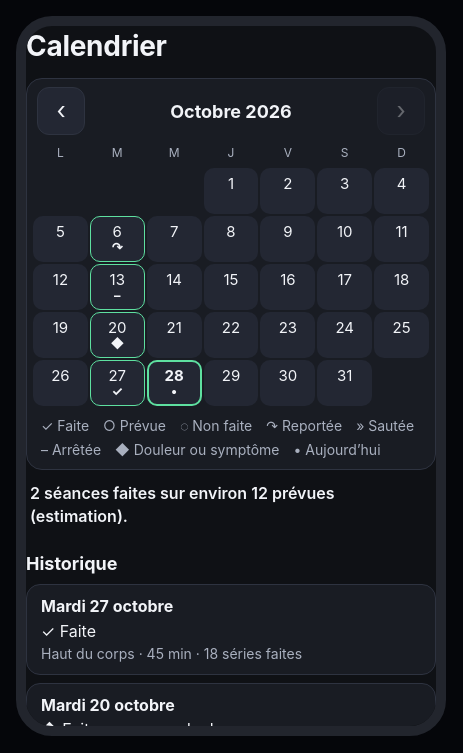
Scenario: calendrier › mois précédent / suivant ; « suivant » désactivé sur le mois en cours
Expected: the button named "Mois suivant" is disabled, [377, 87, 425, 135]
Click the button named "Mois précédent" at (61, 111), box [37, 87, 85, 135]
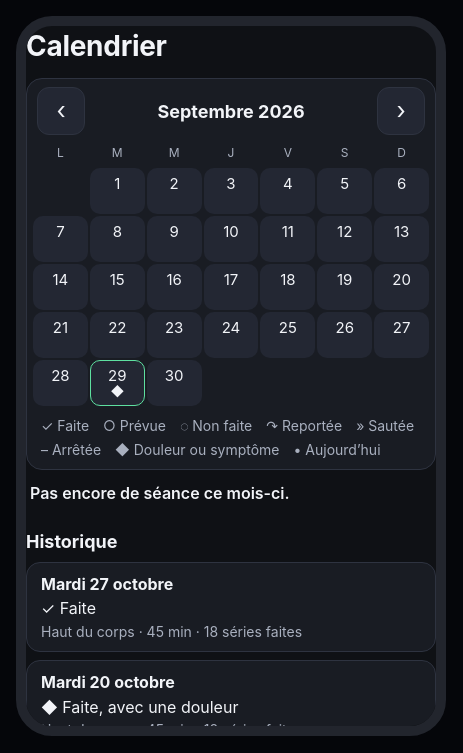
Now the heading "septembre 2026" is shown, box [157, 101, 305, 122]
Now the button named "mardi 29 septembre : séance arrêtée, symptôme" is shown, box [90, 360, 145, 406]
Now the text "Pas encore de séance ce mois-ci." is shown, box [30, 483, 290, 503]
